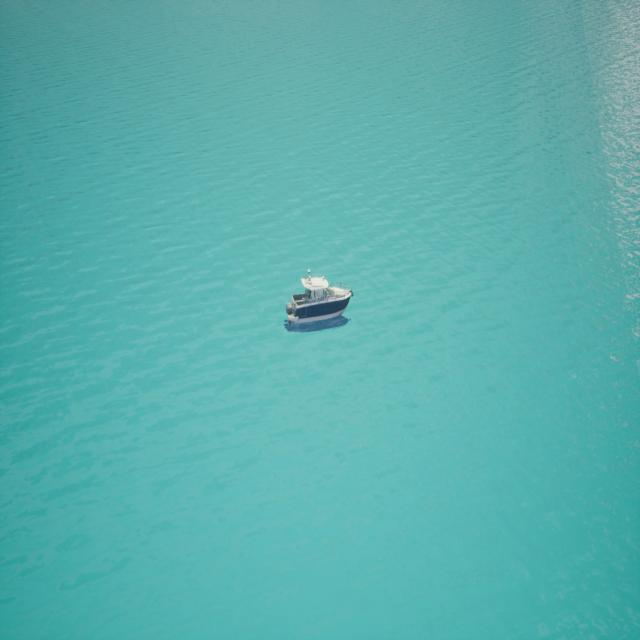ship: (284, 270, 352, 332)
